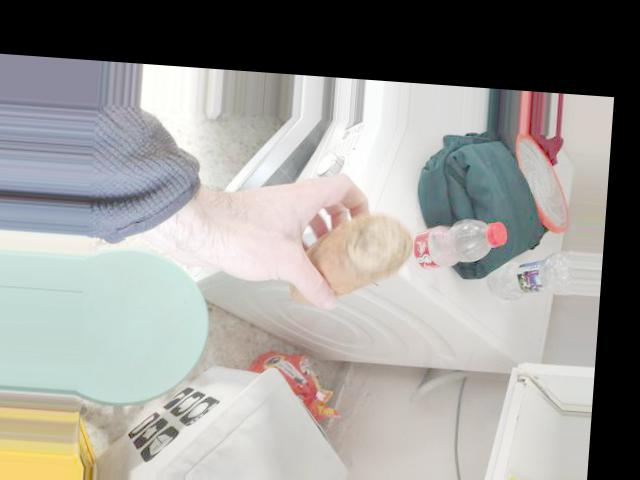sweet_potato: (273, 203, 407, 318)
